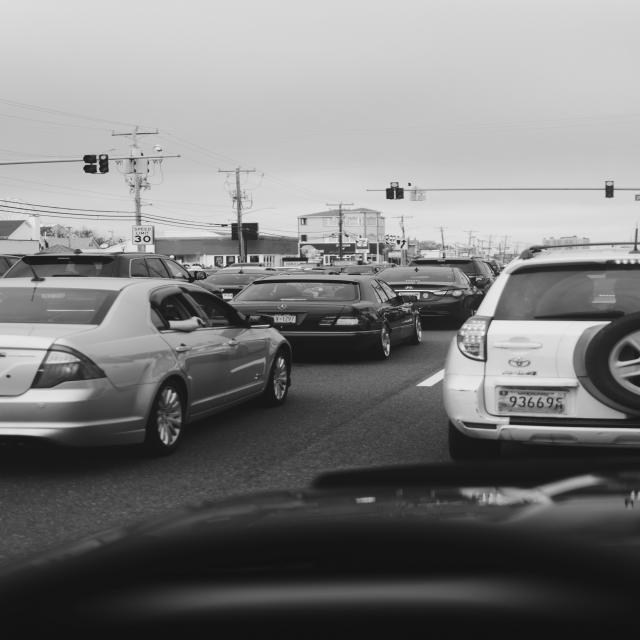car: (0, 269, 291, 455)
